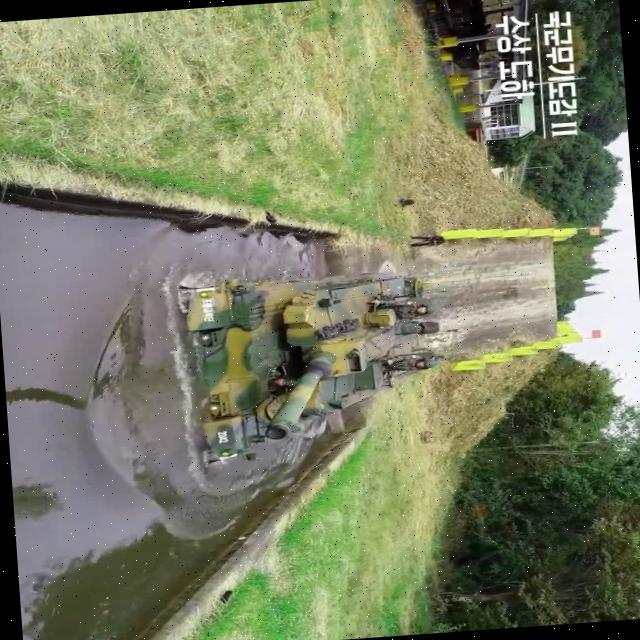korea tank: (170, 262, 466, 465)
